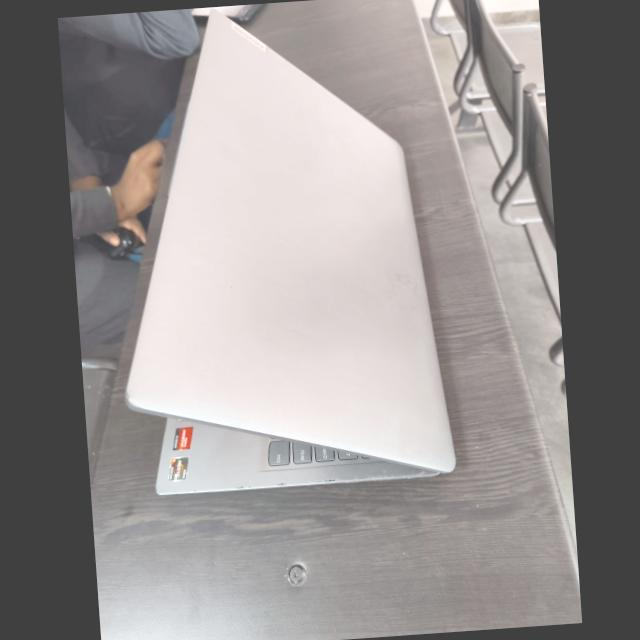laptop: (126, 13, 456, 494)
